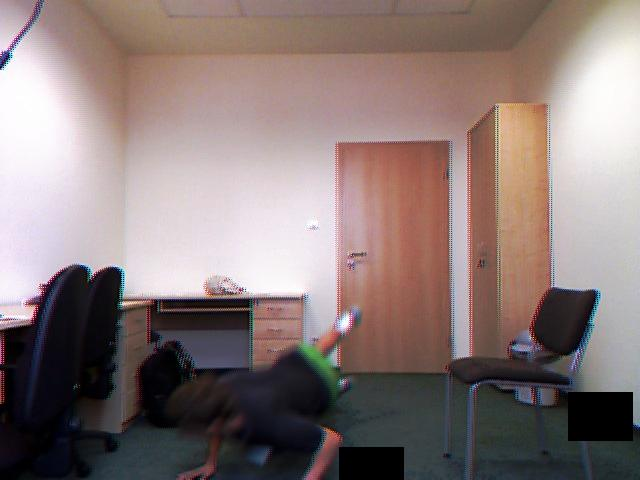fall: (156, 304, 396, 480)
